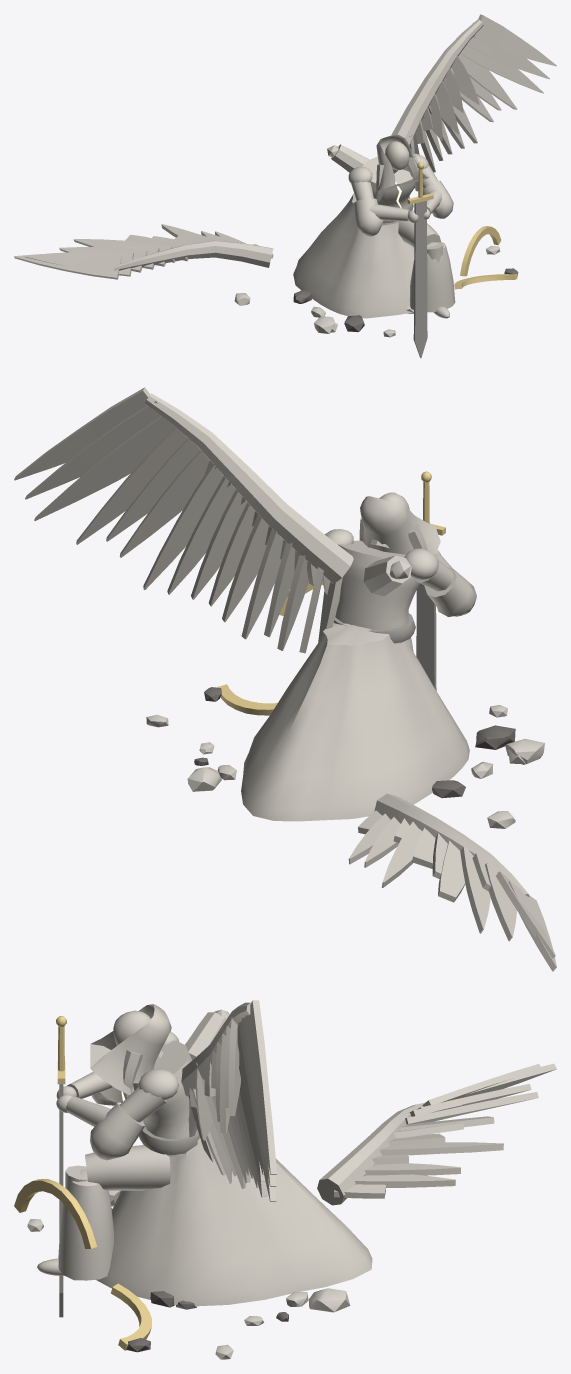
The model's file is fallen_angel.glb.
The picture shows the model from 3 angles, top to bottom: view 1: azimuth 30°, elevation 25°; view 2: azimuth 150°, elevation 25°; view 3: azimuth 270°, elevation 25°; orthographic projection. The views are drawn at different scales.
Visible parts, largest first — view 1: statue; view 2: statue; view 3: statue.
Part boxes in pixels (bbox=[...]): statue: bbox=[14, 14, 556, 358]; statue: bbox=[14, 387, 556, 971]; statue: bbox=[14, 1000, 556, 1359].
Bounding box in the file's own units: 69.64 × 39.4 × 47.2.
